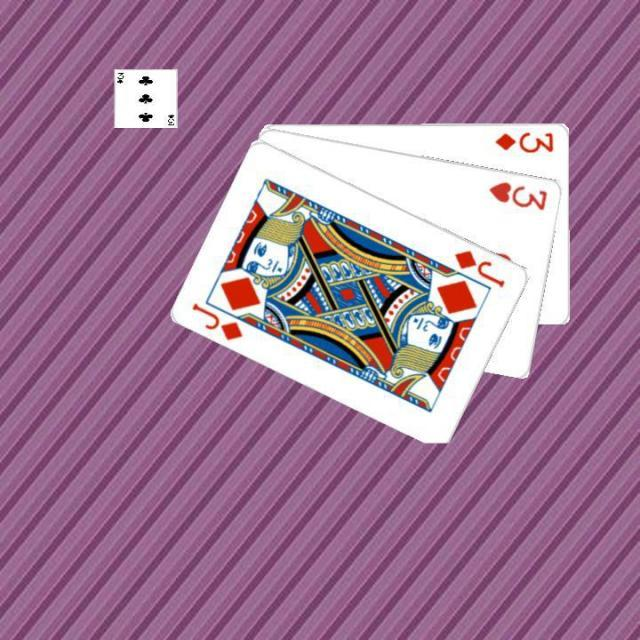3D: (492, 128, 556, 154)
3H: (486, 177, 550, 212)
JD: (450, 245, 508, 290), (188, 298, 246, 342)
